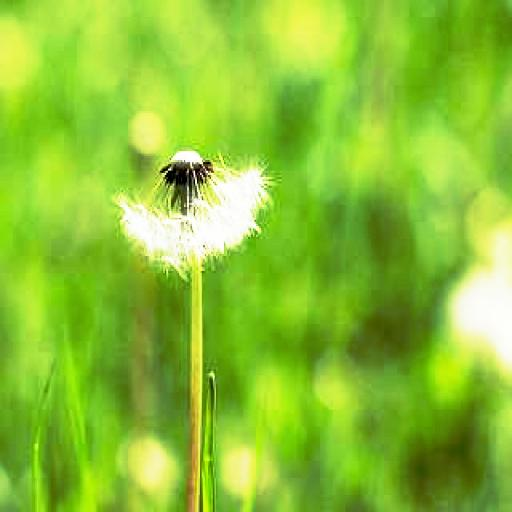dandelion: (120, 156, 272, 266)
